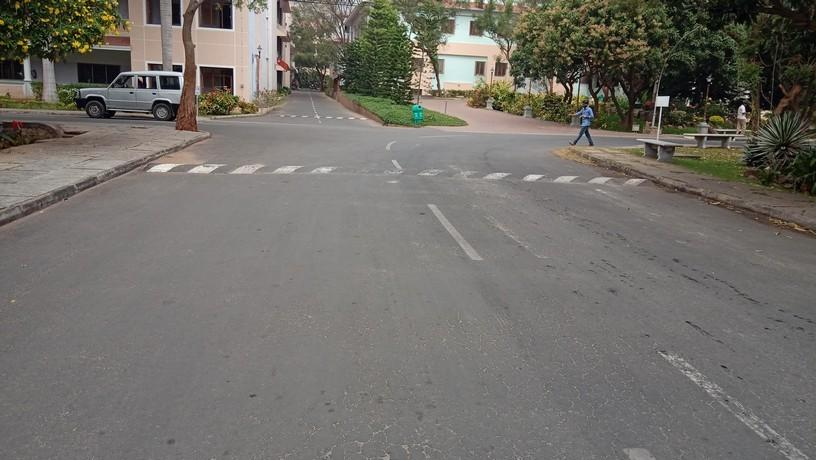speed-bump: (145, 161, 659, 187)
